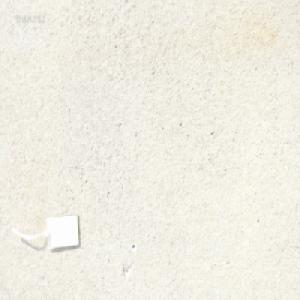LuggageTag: (10, 212, 82, 255)
